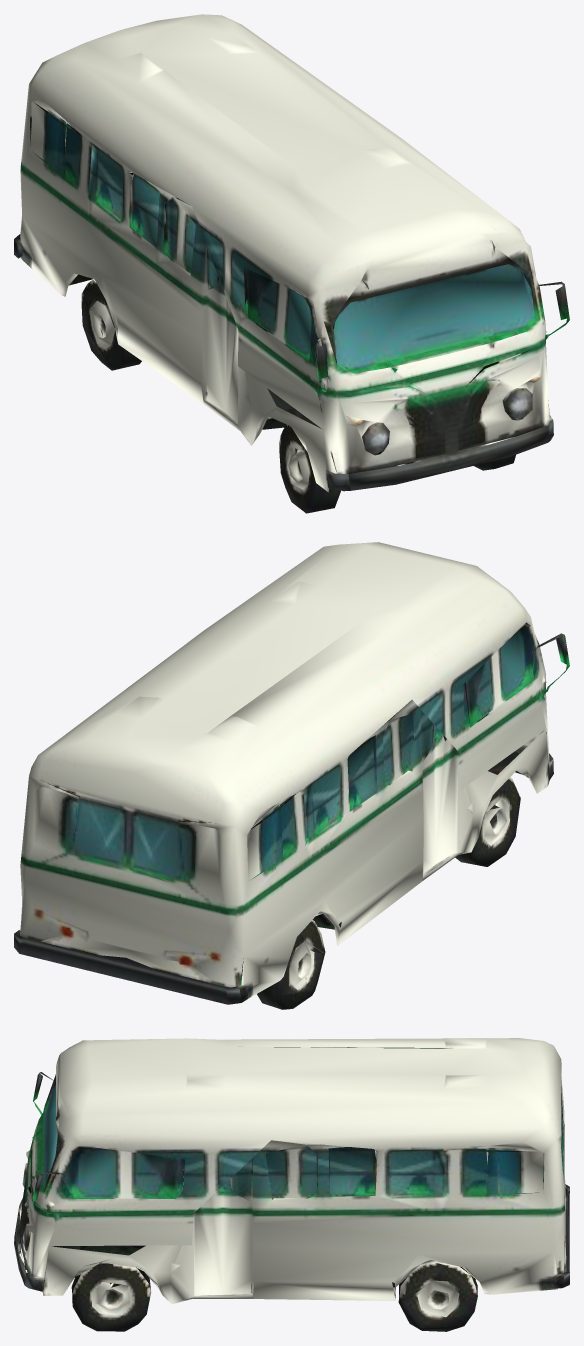
File: danfo-white-green.glb
3 views of the same model, one above another, from view 1: azimuth 30°, elevation 25°; view 2: azimuth 150°, elevation 25°; view 3: azimuth 270°, elevation 25° (orthographic). The views are drawn at different scales.
Visible parts, largest first — view 1: danfo; view 2: danfo; view 3: danfo.
Part boxes in pixels (x1,y1,x2,y2): danfo: (14, 14, 569, 513); danfo: (14, 542, 569, 1009); danfo: (14, 1038, 569, 1331).
Size of the model in its own units: 2.15 by 2.29 by 4.94.
Materials: 1 (1 with a texture image).
